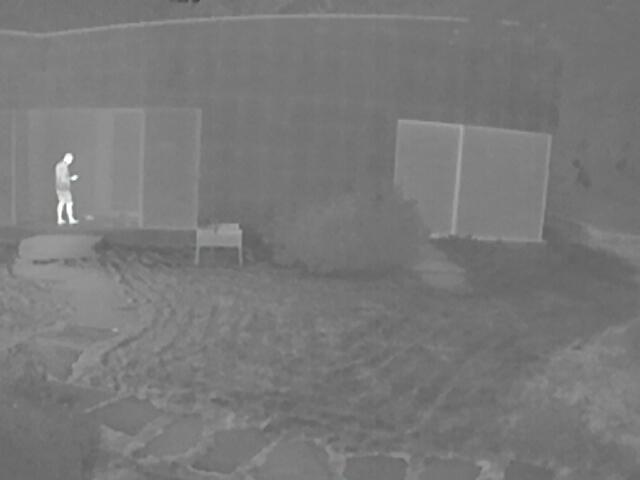person: (55, 152, 79, 226)
